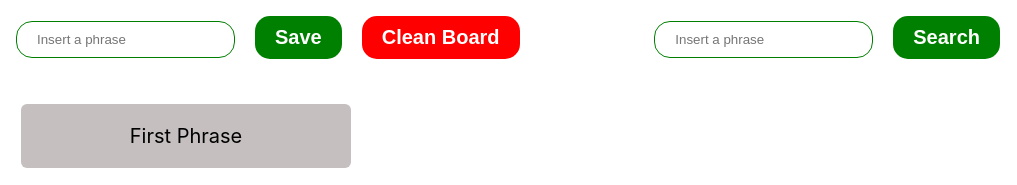
it: App › is saved as local and delete all text
Type "new text to phrase" into the field with test id "input-text" at (126, 40), box [16,21,235,58]
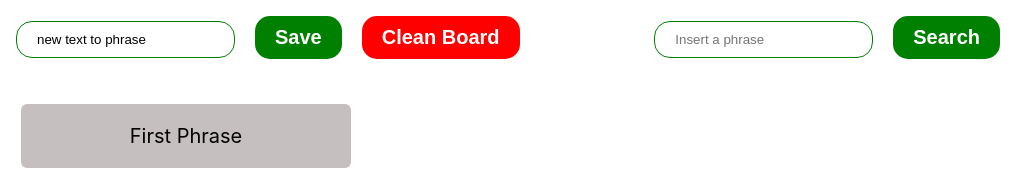
Click the button with test id "save-button" at (298, 38), box [255,16,342,59]
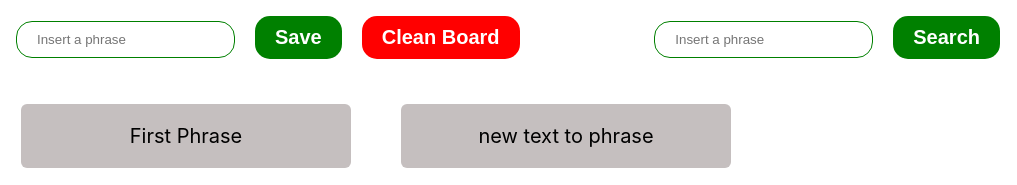
Expected: the text "First Phrase" is shown, [21,104,351,168]
Now the text "new text to phrase" is shown, box [401,104,731,168]
Click the button with test id "clean-board-button" at (441, 38), box [362,16,520,59]
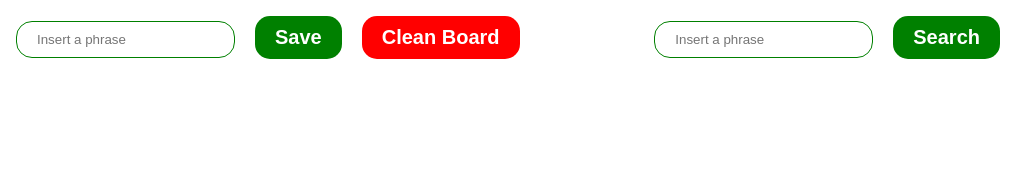
Now the text with test id "phrase-0" is gone
